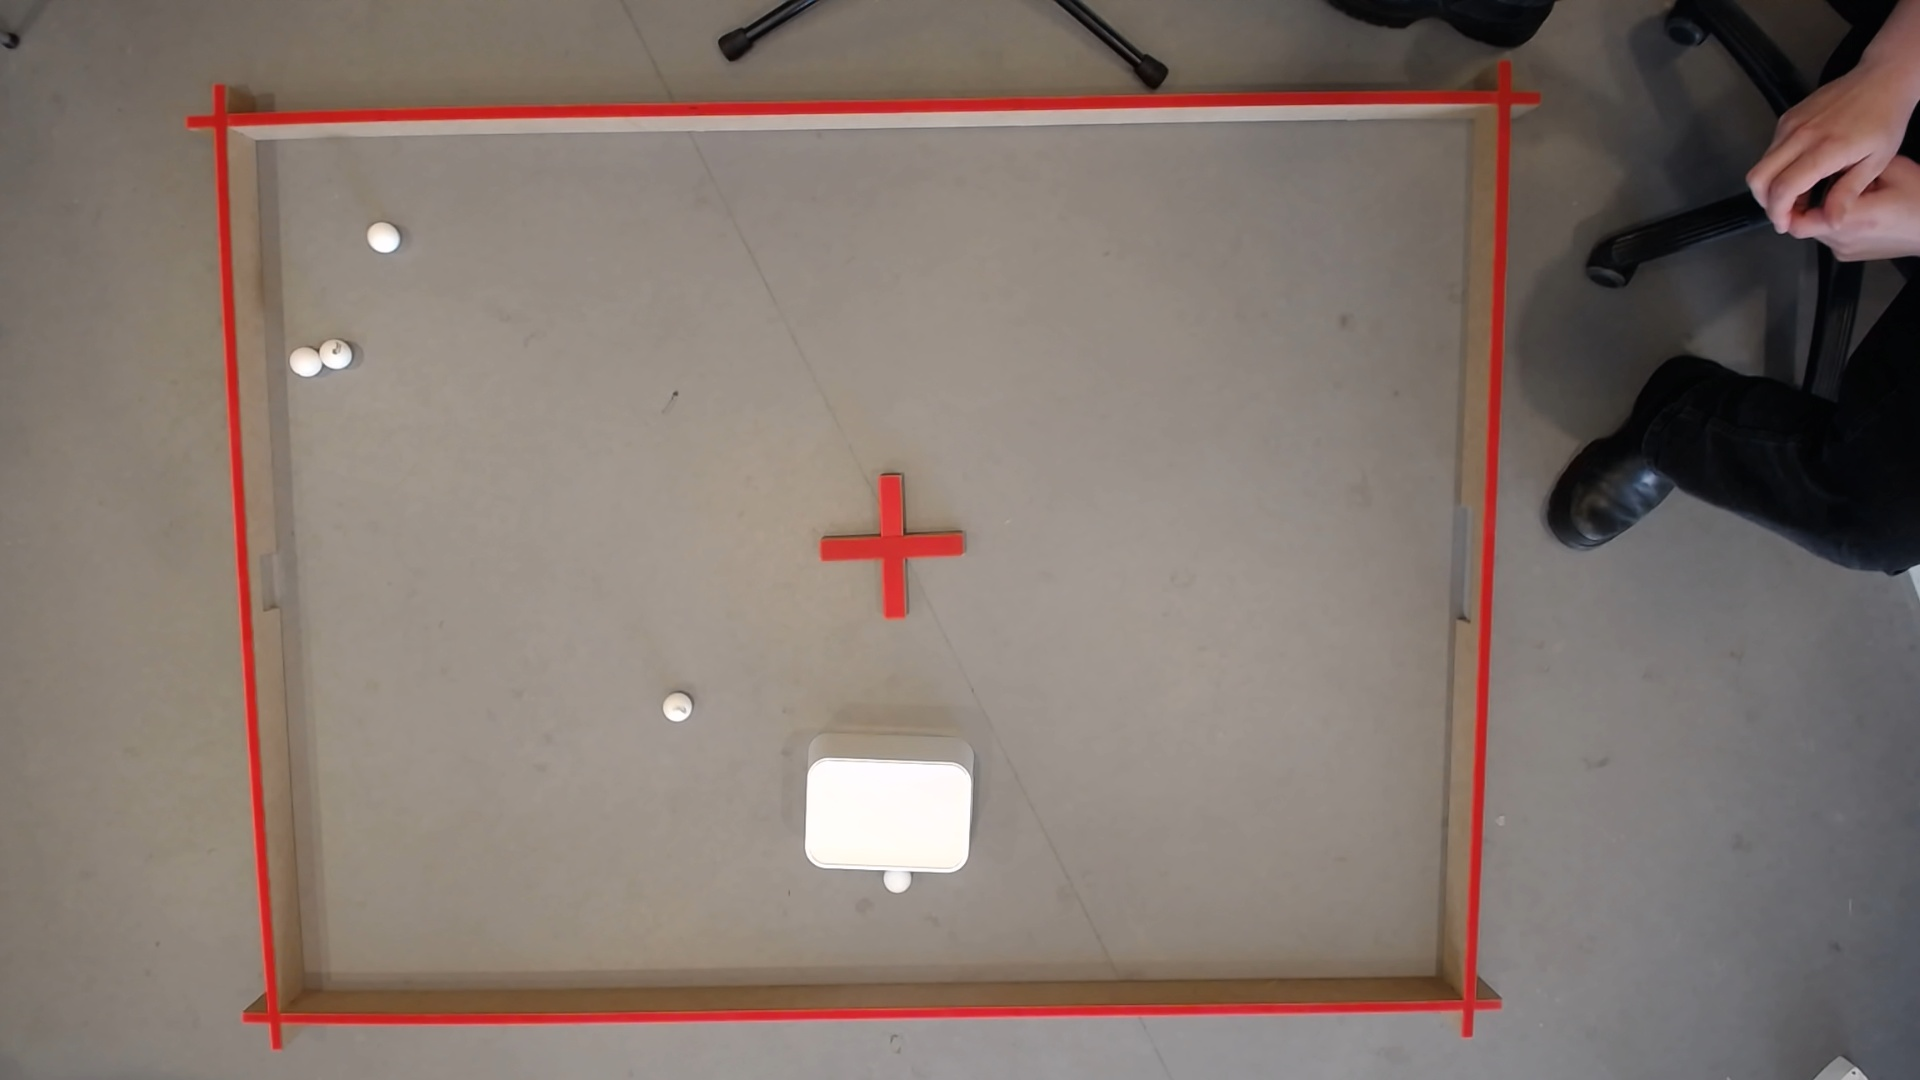balls: (287, 340, 352, 378), (364, 223, 401, 256)
car: (659, 694, 692, 725)
